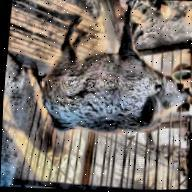boar: (30, 8, 192, 153)
